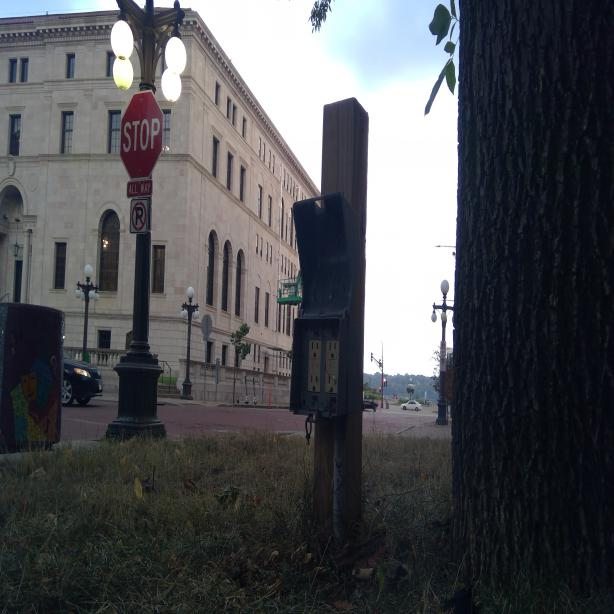typeb: (326, 334, 340, 361), (308, 371, 320, 392), (325, 373, 337, 393), (311, 338, 321, 358)
